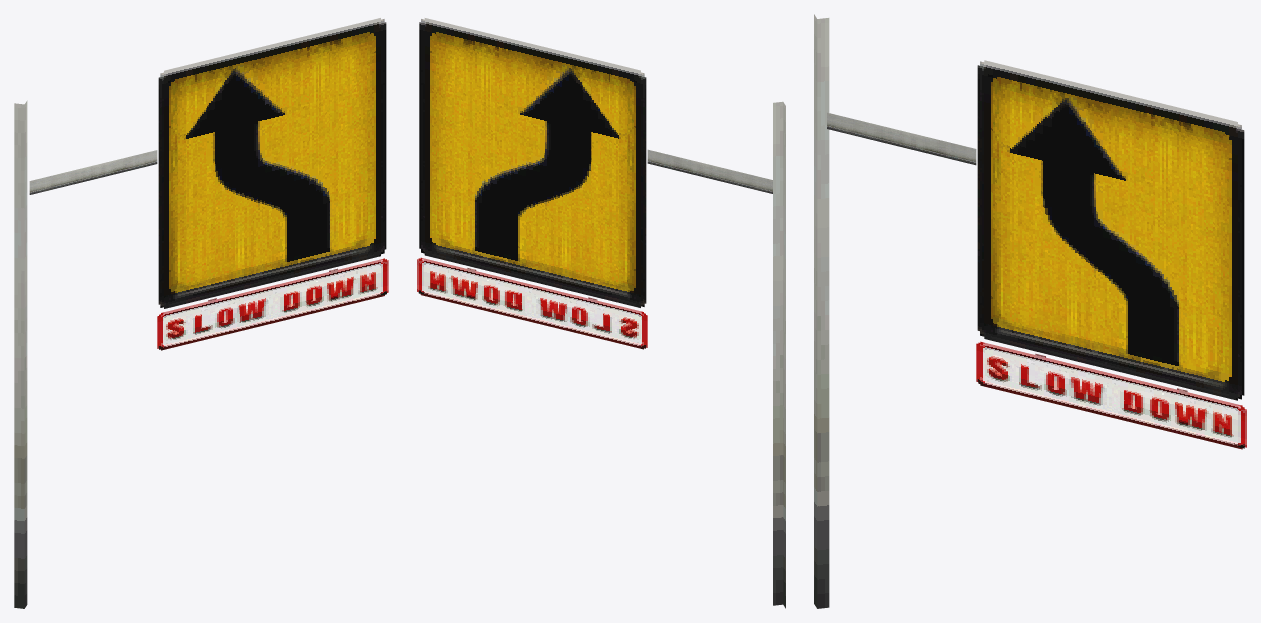
Rendered from stage-newy-p7-8.glb.
The picture shows the model from 3 angles, left to right: view 1: azimuth 30°, elevation 25°; view 2: azimuth 150°, elevation 25°; view 3: azimuth 330°, elevation 25°; orthographic projection. The views are drawn at different scales.
Size of the model in its own units: 8.04 by 10.41 by 0.1415.
3 materials, 3 textured.
